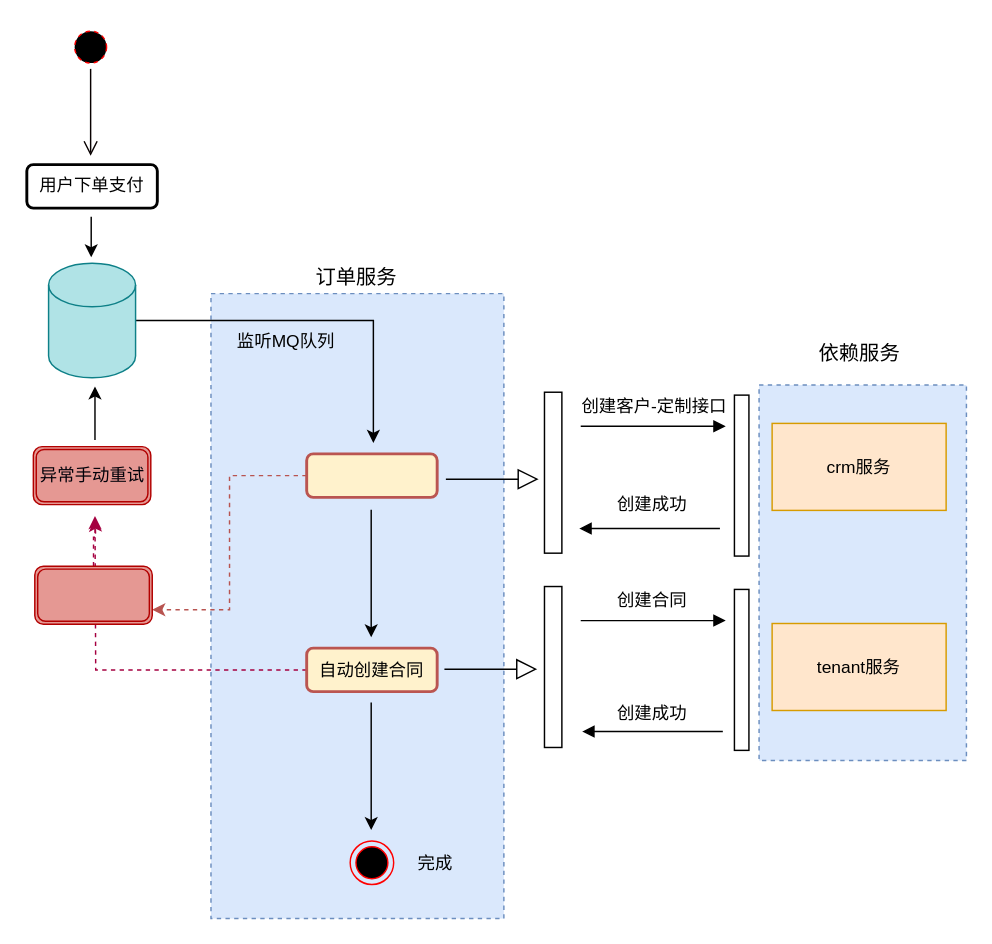
Some shapes in this 992 by 944 pixel diagram are drawn without their labels. Here are the shapes that lost their labels. From the top down, the centre of each, then its label:
At pixel 91 320: "mq".
At pixel 371 475: "自动创建客户".
At pixel 92 594: "系统异常告警".
